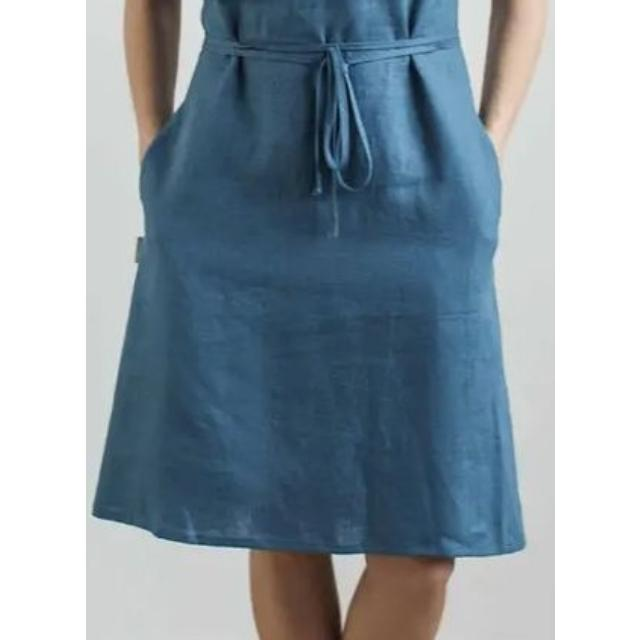linen: (102, 1, 538, 564)
